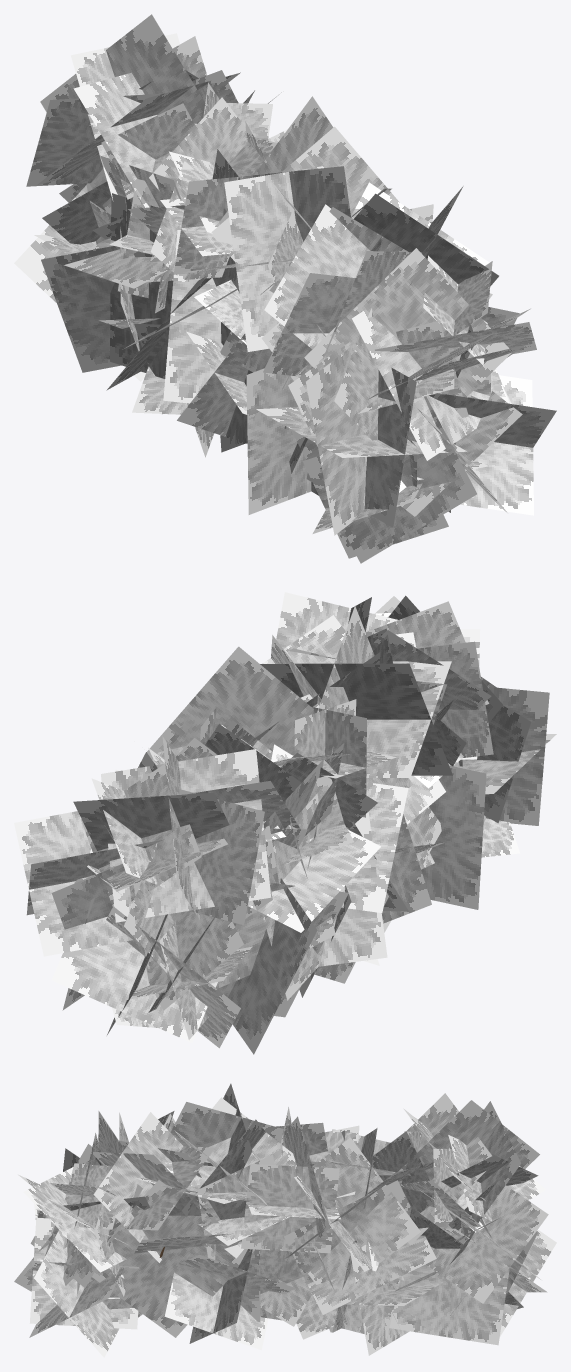
The model's file is Bush2.fbx.
3 views of the same model, one above another, from view 1: azimuth 30°, elevation 25°; view 2: azimuth 150°, elevation 25°; view 3: azimuth 270°, elevation 25° (orthographic). The views are drawn at different scales.
Visible parts, largest first — view 1: Bush2_LOD0; view 2: Bush2_LOD0; view 3: Bush2_LOD0.
Part boxes in pixels (x1,y1,x2,y2): Bush2_LOD0: [14, 14, 556, 563]; Bush2_LOD0: [14, 592, 556, 1054]; Bush2_LOD0: [14, 1083, 556, 1357].
Size of what is drawn, in the model's own units: 1.5 by 1.7 by 3.41.
